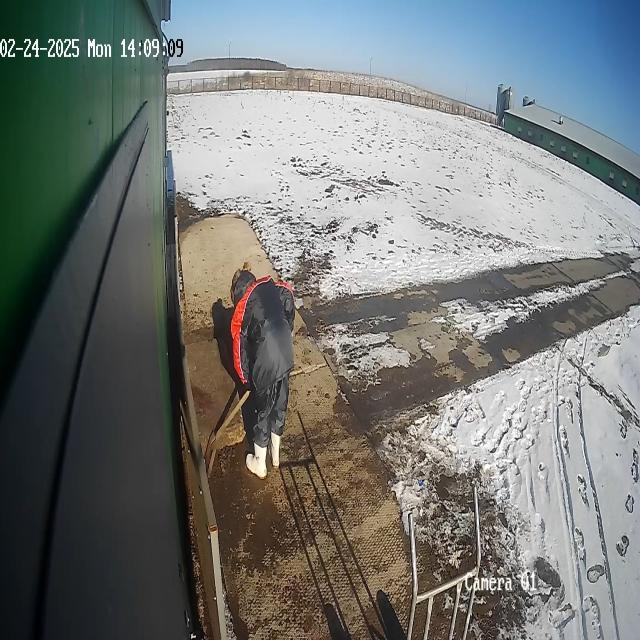Red uniform: (229, 271, 296, 454)
